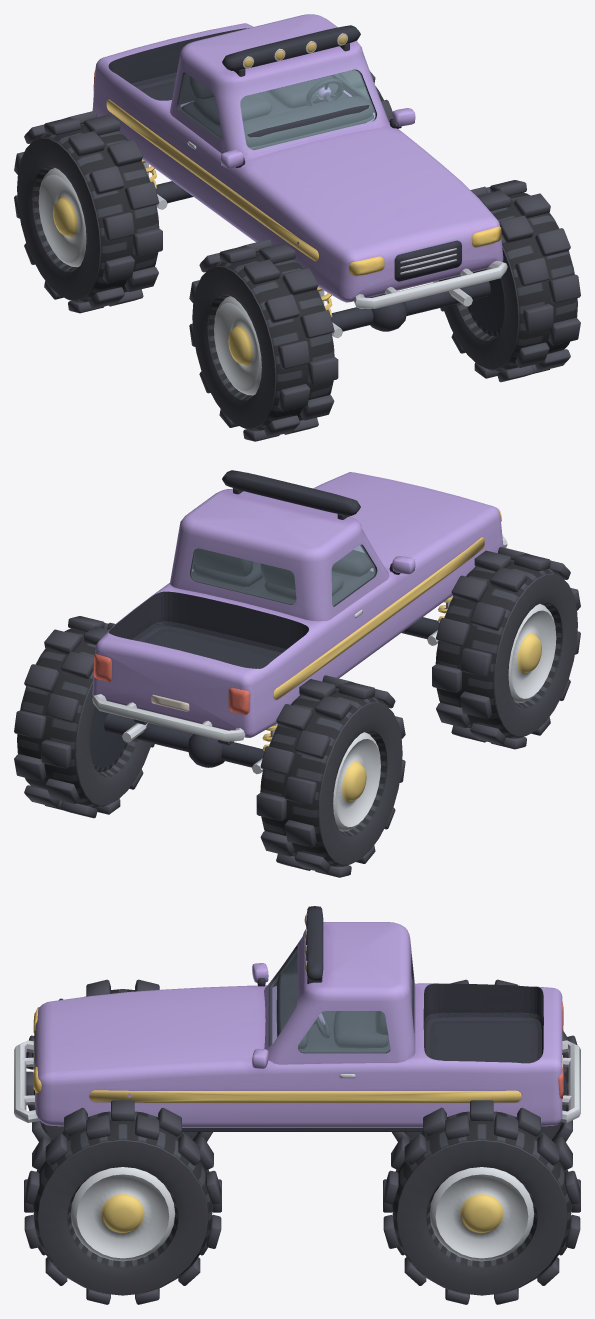
File: monster-truck.glb
The picture shows the model from 3 angles, top to bottom: view 1: azimuth 30°, elevation 25°; view 2: azimuth 150°, elevation 25°; view 3: azimuth 270°, elevation 25°; orthographic projection. The views are drawn at different scales.
Visible parts, largest first — view 1: monster-truck_body, monster-truck_wheel_fr, monster-truck_wheel_rr, monster-truck_wheel_fl, monster-truck_windows, monster-truck_wheel_rl; view 2: monster-truck_body, monster-truck_wheel_rr, monster-truck_wheel_fr, monster-truck_wheel_rl, monster-truck_windows; view 3: monster-truck_body, monster-truck_wheel_rl, monster-truck_wheel_fl, monster-truck_windows, monster-truck_wheel_fr, monster-truck_wheel_rr.
Part boxes in pixels (x1=…): monster-truck_body: x1=92, y1=14, x2=507, y2=338; monster-truck_wheel_fr: x1=189, y1=239, x2=338, y2=441; monster-truck_wheel_rr: x1=14, y1=111, x2=162, y2=313; monster-truck_wheel_fl: x1=440, y1=180, x2=580, y2=382; monster-truck_windows: x1=178, y1=70, x2=375, y2=149; monster-truck_wheel_rl: x1=337, y1=70, x2=392, y2=121; monster-truck_body: x1=92, y1=470, x2=507, y2=774; monster-truck_wheel_rr: x1=256, y1=675, x2=405, y2=877; monster-truck_wheel_fr: x1=432, y1=547, x2=580, y2=749; monster-truck_wheel_rl: x1=14, y1=616, x2=154, y2=818; monster-truck_windows: x1=191, y1=545, x2=375, y2=605; monster-truck_body: x1=14, y1=906, x2=580, y2=1131; monster-truck_wheel_rl: x1=383, y1=1100, x2=580, y2=1304; monster-truck_wheel_fl: x1=24, y1=1100, x2=221, y2=1304; monster-truck_windows: x1=270, y1=949, x2=411, y2=1052; monster-truck_wheel_fr: x1=26, y1=979, x2=212, y2=1141; monster-truck_wheel_rr: x1=392, y1=979, x2=577, y2=1141.
Bounding box in the file's own units: 2.92 × 2.64 × 4.58.
18 materials, 5 textured.
